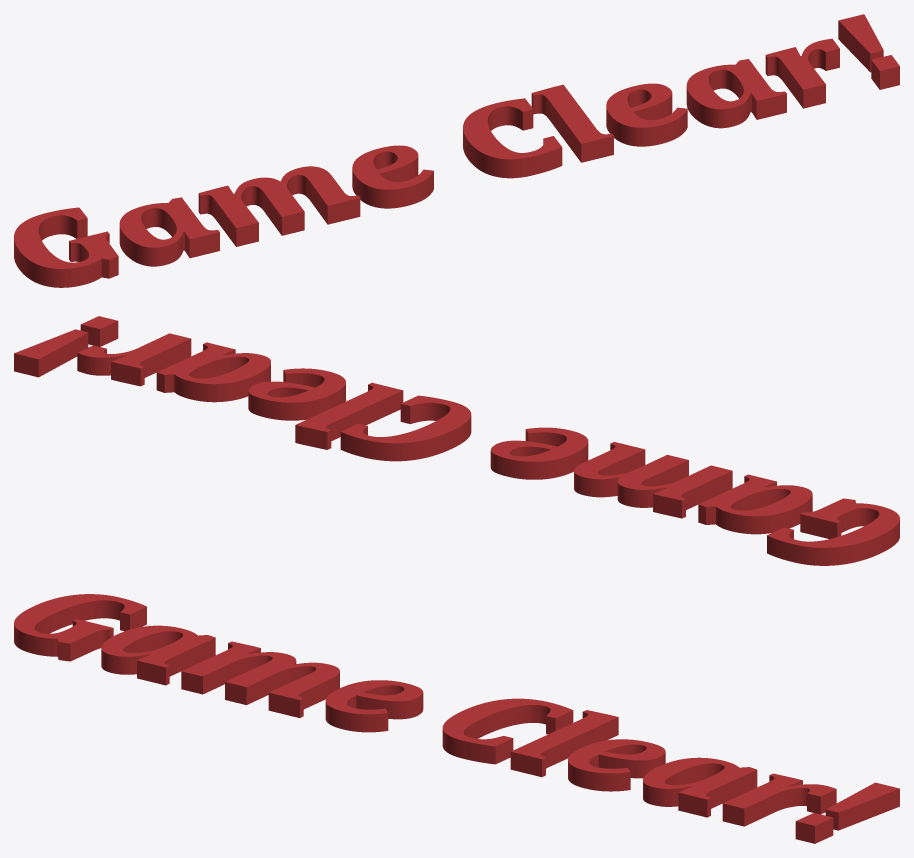
The model's file is gameclear.fbx.
3 renders of one model, top to bottom at view 1: azimuth 30°, elevation 25°; view 2: azimuth 150°, elevation 25°; view 3: azimuth 330°, elevation 25°, orthographic. The views are drawn at different scales.
Parts seen in each view (by area): view 1: Text; view 2: Text; view 3: Text.
Boxes of the visible parts, x1=… form: Text: x1=14, y1=14, x2=899, y2=287; Text: x1=14, y1=316, x2=899, y2=565; Text: x1=14, y1=594, x2=899, y2=843.
Bounding box in the file's own units: 403 × 8.27 × 52.54.
